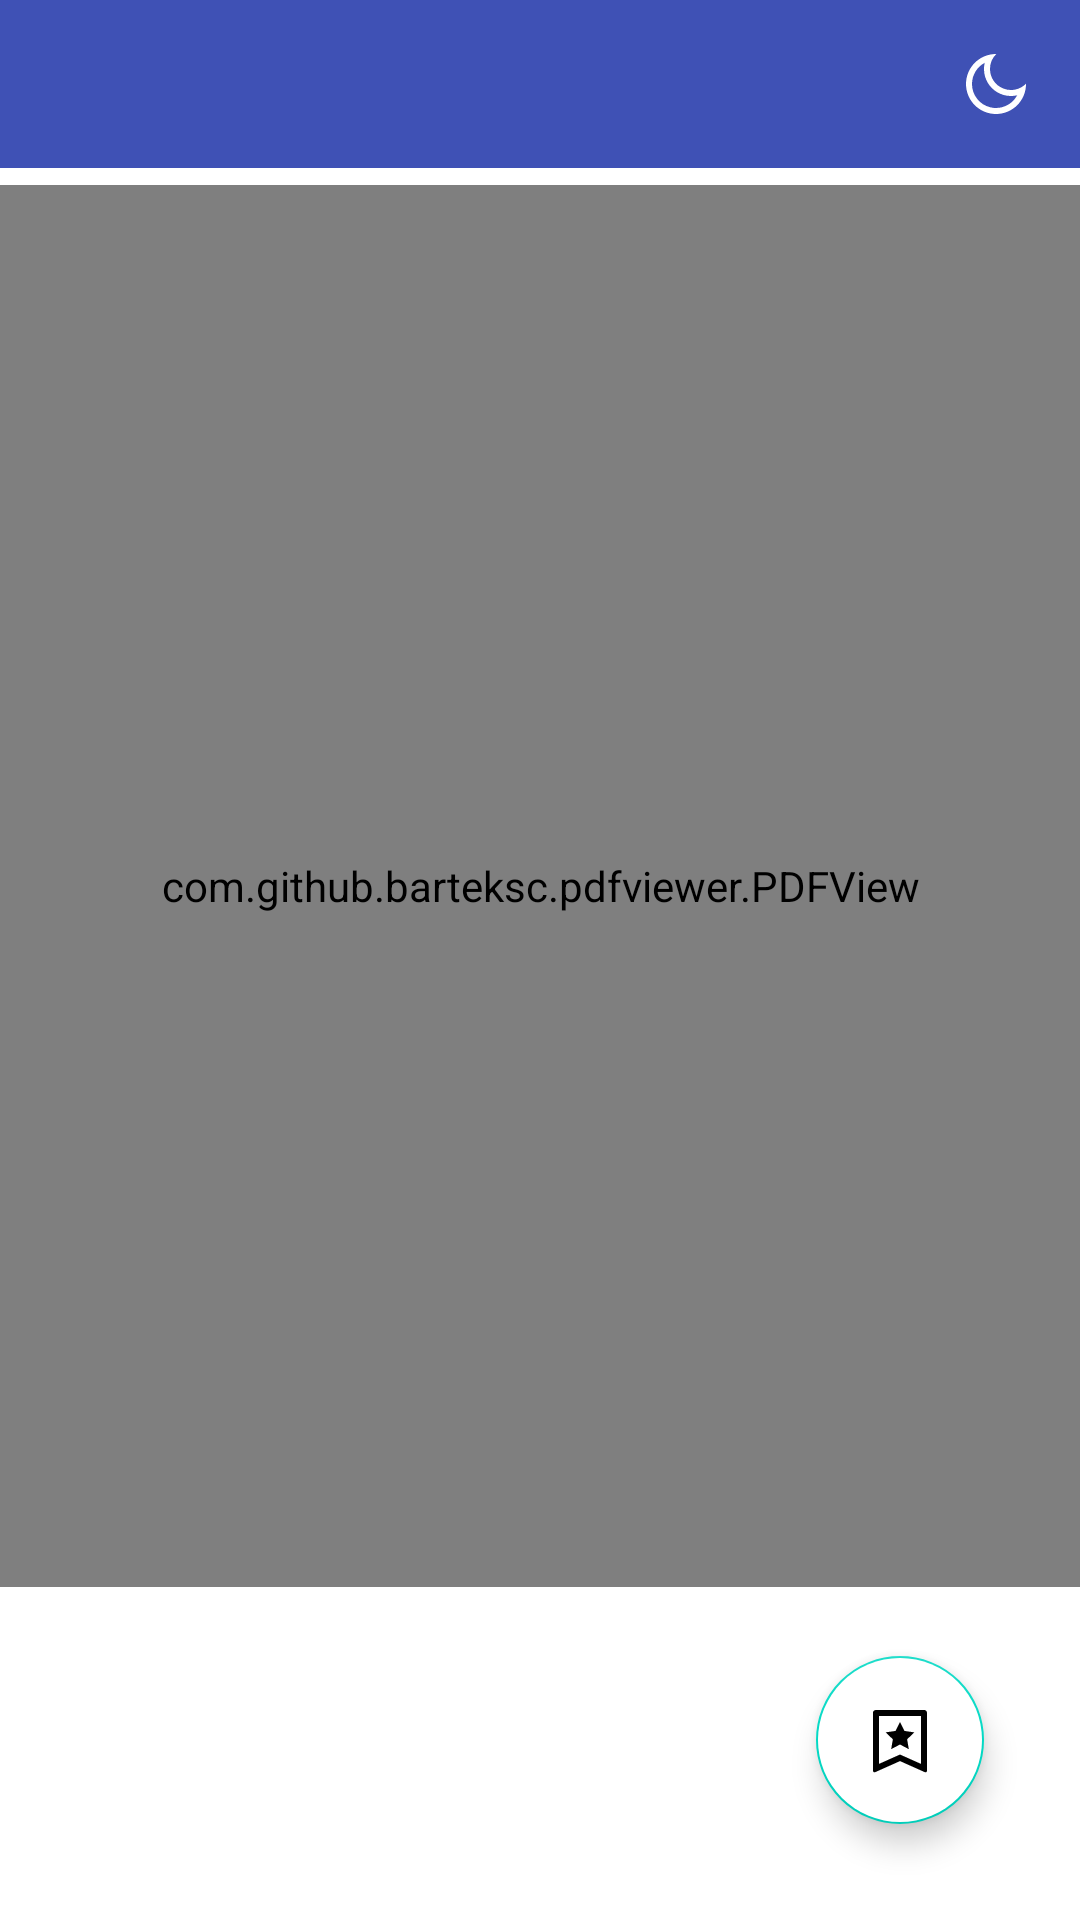

Named icons in this screenshot (1080w x 1920h) and their centers, (x,y):
bookmark: (900,1740)
moon: (996,84)
